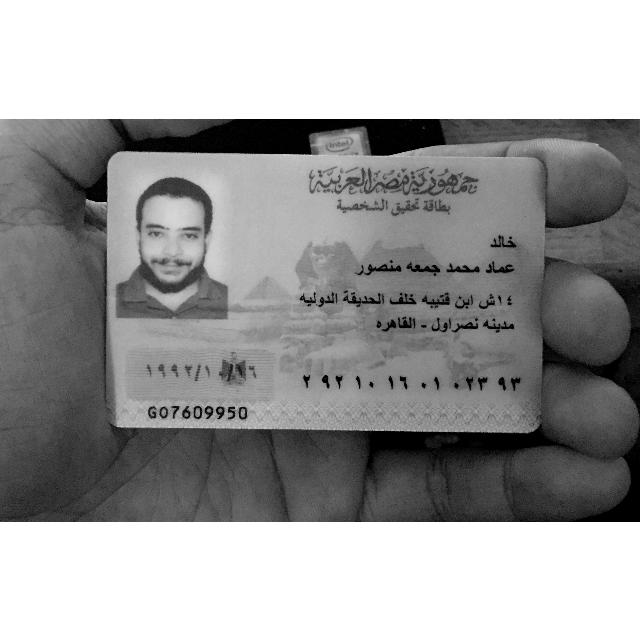front: (104, 151, 549, 432)
